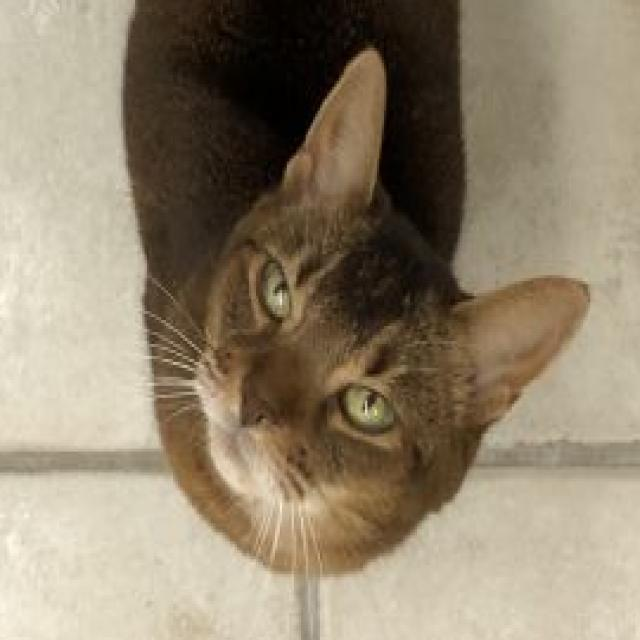Abyssinian: (118, 0, 598, 592)
